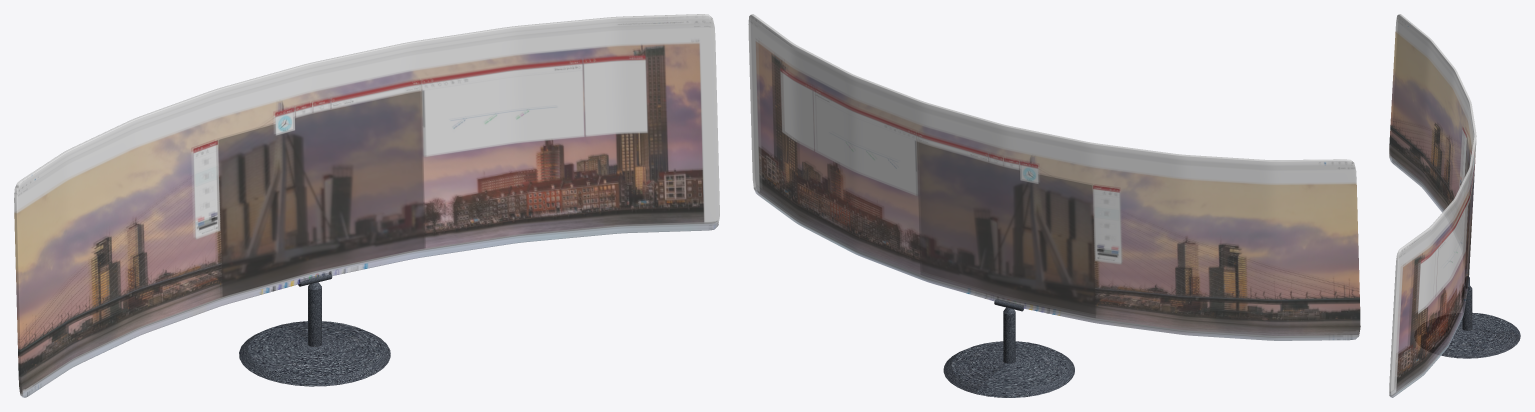
Rendered from futureScreen2.glb.
3 renders of one model, left to right at view 1: azimuth 30°, elevation 25°; view 2: azimuth 150°, elevation 25°; view 3: azimuth 270°, elevation 25°, orthographic. The views are drawn at different scales.
Parts seen in each view (by area): view 1: screen.001, foot.001; view 2: screen.001, foot.001; view 3: screen.001, foot.001.
Part boxes in pixels (x1,y1,x2,y2): screen.001: [14, 14, 719, 397]; foot.001: [239, 272, 390, 386]; screen.001: [748, 14, 1360, 340]; foot.001: [943, 299, 1074, 397]; screen.001: [1389, 14, 1476, 397]; foot.001: [1441, 276, 1520, 358].
Size of the model in its own units: 2.12 by 0.8422 by 0.492.
2 materials, 2 textured.
